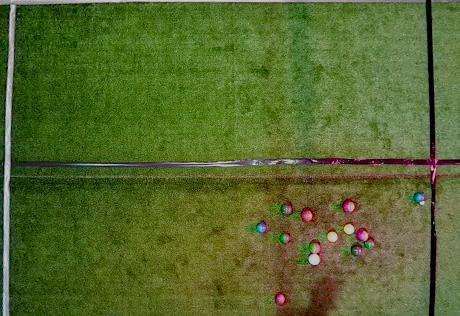blue: (413, 192, 425, 203), (256, 223, 267, 233)
green: (280, 204, 293, 216), (351, 245, 362, 257), (279, 233, 290, 244), (308, 243, 320, 253), (364, 239, 375, 249)
red: (356, 230, 369, 242), (342, 200, 355, 212), (308, 253, 320, 265), (301, 210, 313, 222), (275, 293, 286, 305)
vline: (425, 0, 459, 315), (0, 0, 19, 315)
white: (420, 201, 425, 205)
yellow: (343, 224, 355, 235), (327, 231, 338, 242)
